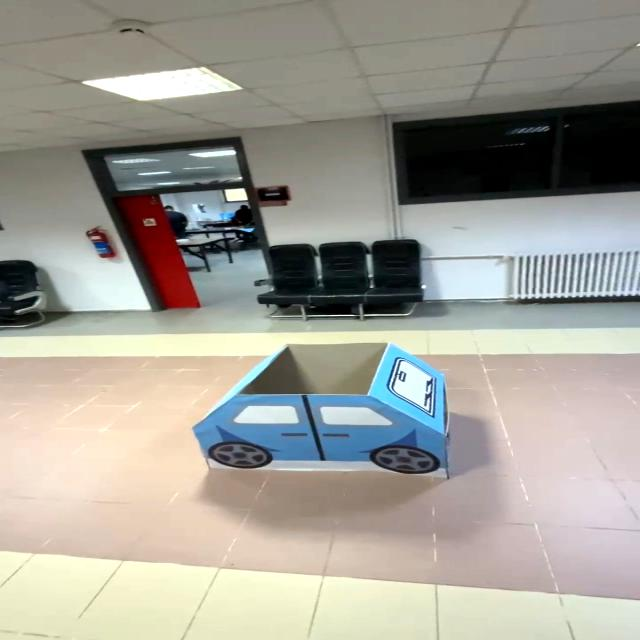blue_car: (180, 331, 467, 499)
